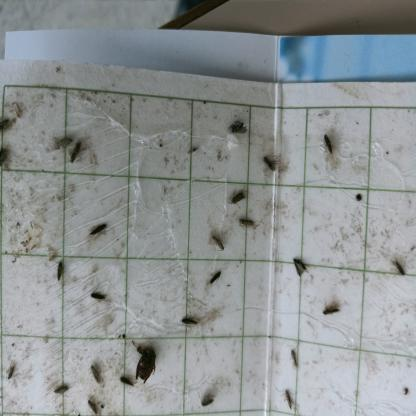prays_oleae: (89, 343, 107, 390), (87, 211, 111, 245), (226, 112, 250, 141), (49, 125, 73, 153), (281, 338, 300, 372), (210, 225, 232, 253), (291, 244, 307, 281), (225, 184, 247, 210), (324, 123, 341, 155), (318, 296, 340, 320), (182, 306, 203, 330), (52, 374, 72, 398), (72, 138, 86, 170), (53, 250, 65, 287), (0, 139, 11, 179), (393, 257, 410, 282), (82, 393, 101, 415), (114, 370, 136, 389), (93, 284, 110, 308), (235, 216, 257, 233), (284, 381, 296, 412), (198, 386, 215, 406), (264, 151, 275, 178), (208, 270, 224, 288), (1, 108, 14, 130), (6, 358, 17, 382)
